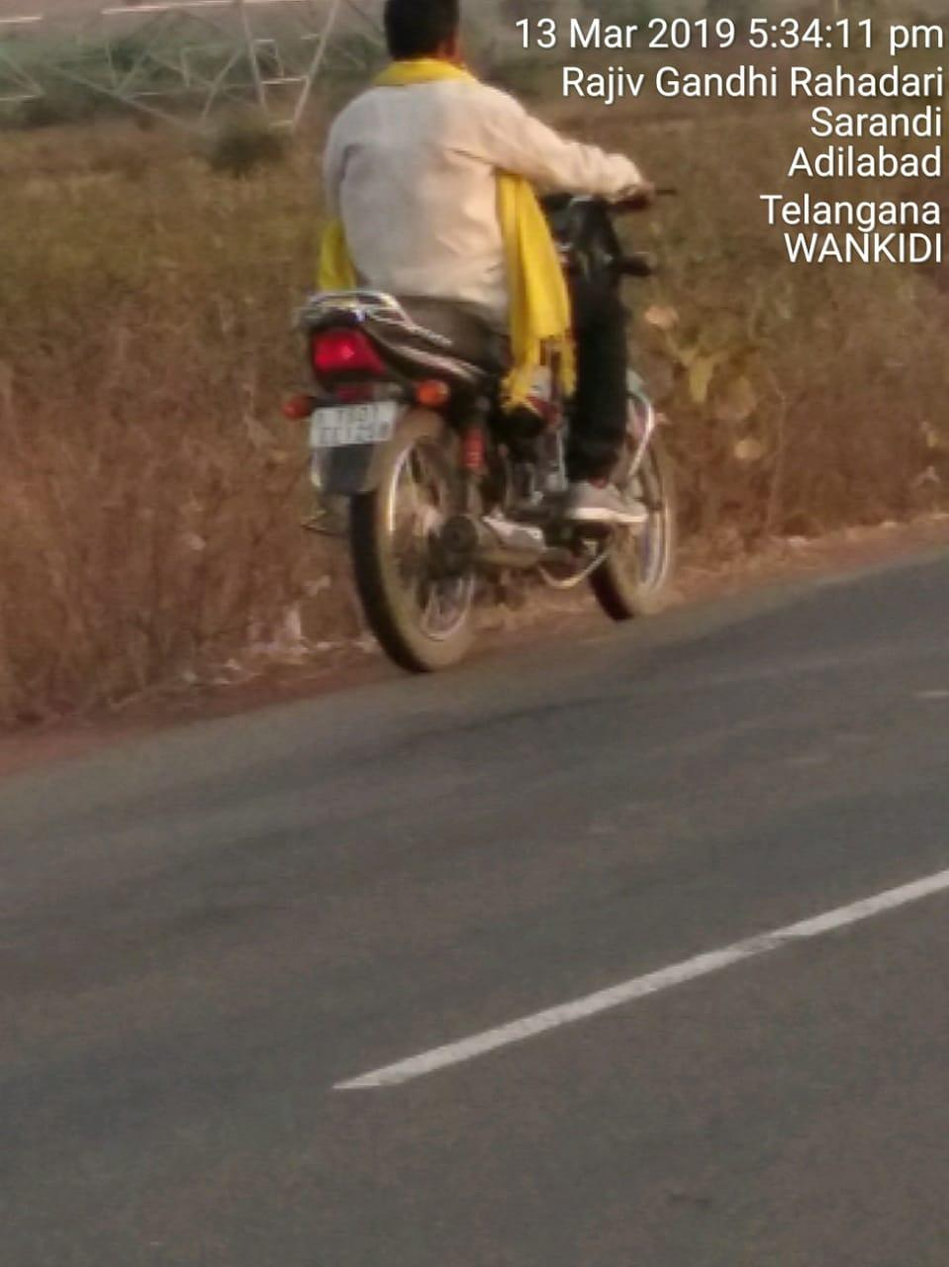plate: (302, 399, 401, 452)
